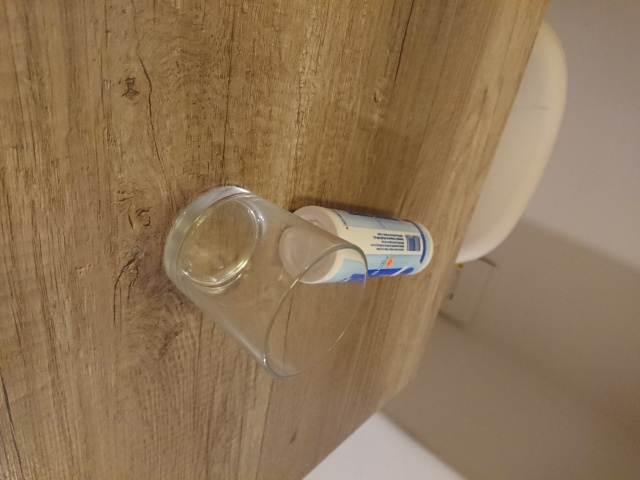Solana Pag Fine Sea Salt 250g: (276, 203, 436, 286)
